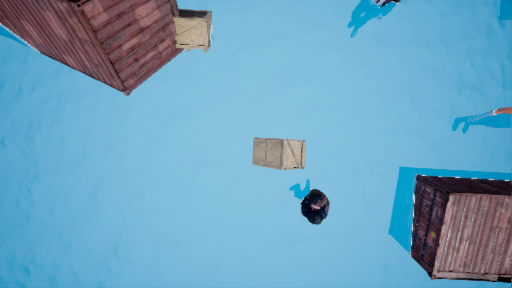person: (291, 183, 338, 226)
